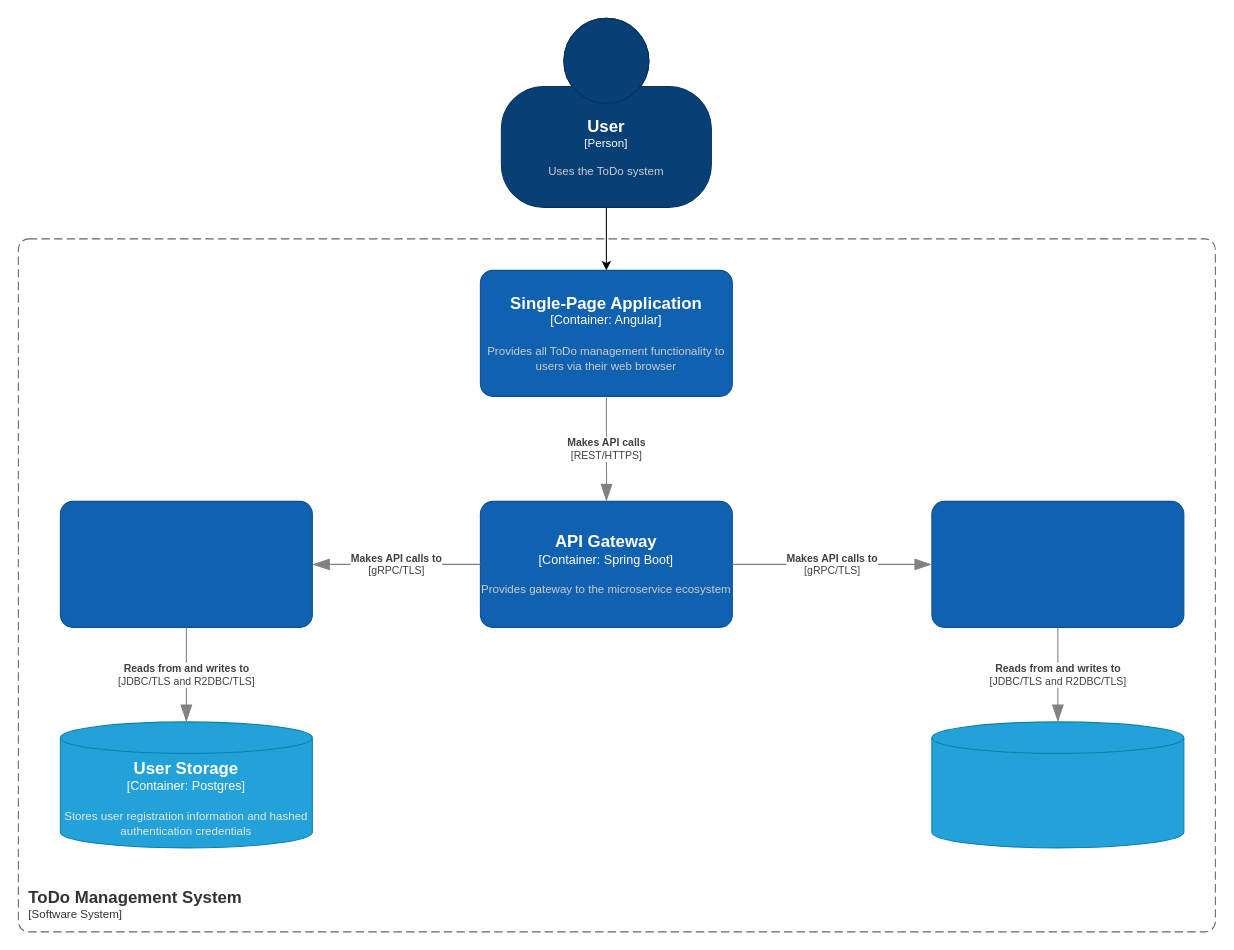
Some shapes in this 1234 by 950 pixel diagram are drawn without their labels. The shapes that lost their labels are listed below. From the top down, each one's centre as x and y in pixels, then its label:
At (185,563): "User Service [Container: Spring Boot] Provides user authentication".
At (1057,563): "ToDo Service [Container: Spring Boot] Provides ToDo management functionality".
At (1057,784): "ToDo Storage [Container: Postgres] Storage of ToDo's".
